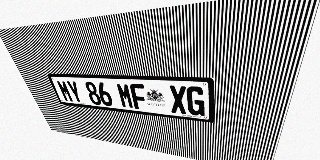6: (95, 82, 114, 106)
8: (84, 81, 102, 105)
F: (129, 83, 148, 110)
G: (186, 86, 205, 116)
M: (116, 83, 134, 109), (56, 80, 74, 102)
X: (169, 85, 187, 114)
Y: (65, 80, 84, 103)
